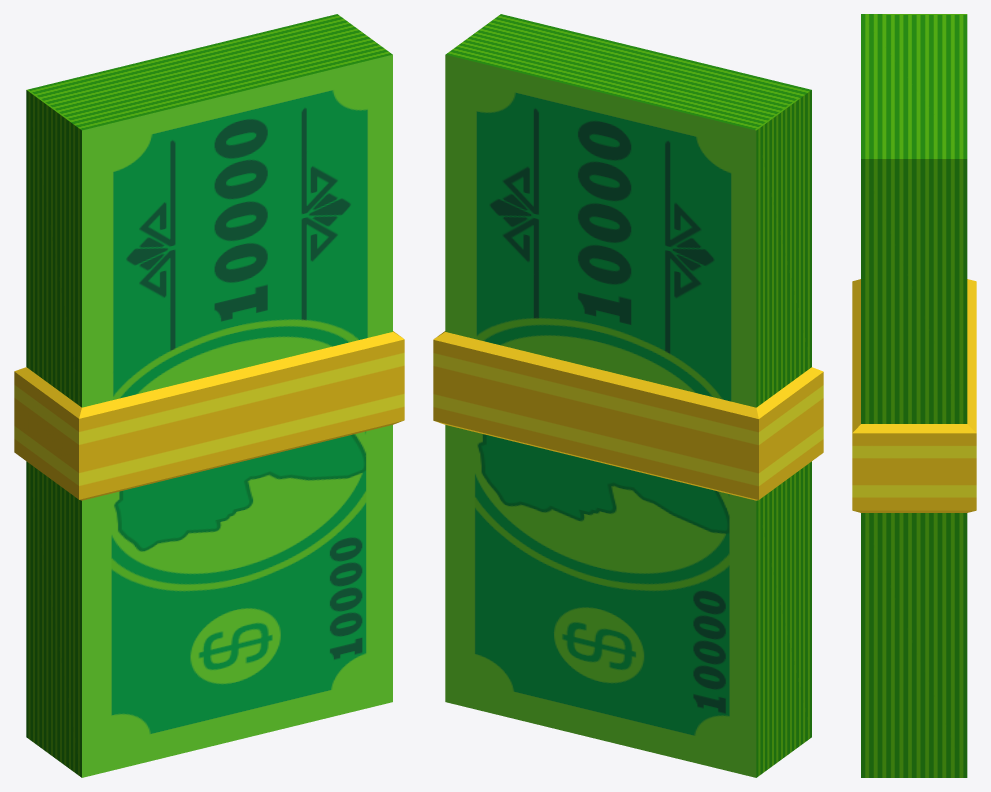
The model's file is meiyuan_01.FBX.
The picture shows the model from 3 angles, left to right: view 1: azimuth 30°, elevation 25°; view 2: azimuth 150°, elevation 25°; view 3: azimuth 270°, elevation 25°; orthographic projection. The views are drawn at different scales.
Visible parts, largest first — view 1: meiyuan_01; view 2: meiyuan_01; view 3: meiyuan_01.
Part boxes in pixels (x1,y1,x2,y2): meiyuan_01: (14,14,404,777); meiyuan_01: (433,14,823,777); meiyuan_01: (852,14,976,777).
Bounding box in the file's own units: 608 × 1155 × 210.
1 material, 1 textured.
